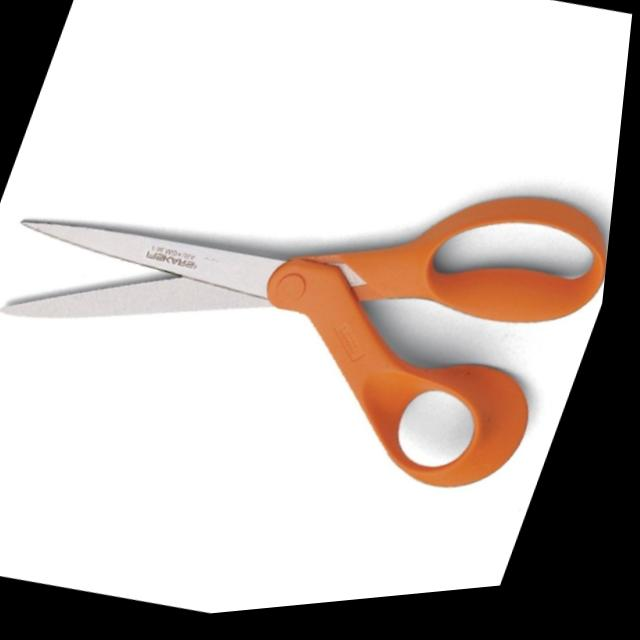scissor: (0, 49, 632, 565)
